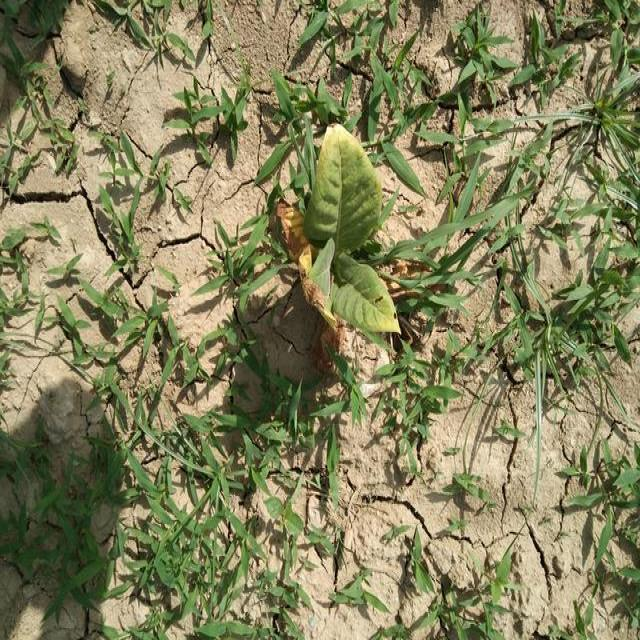crop: (298, 108, 416, 360)
